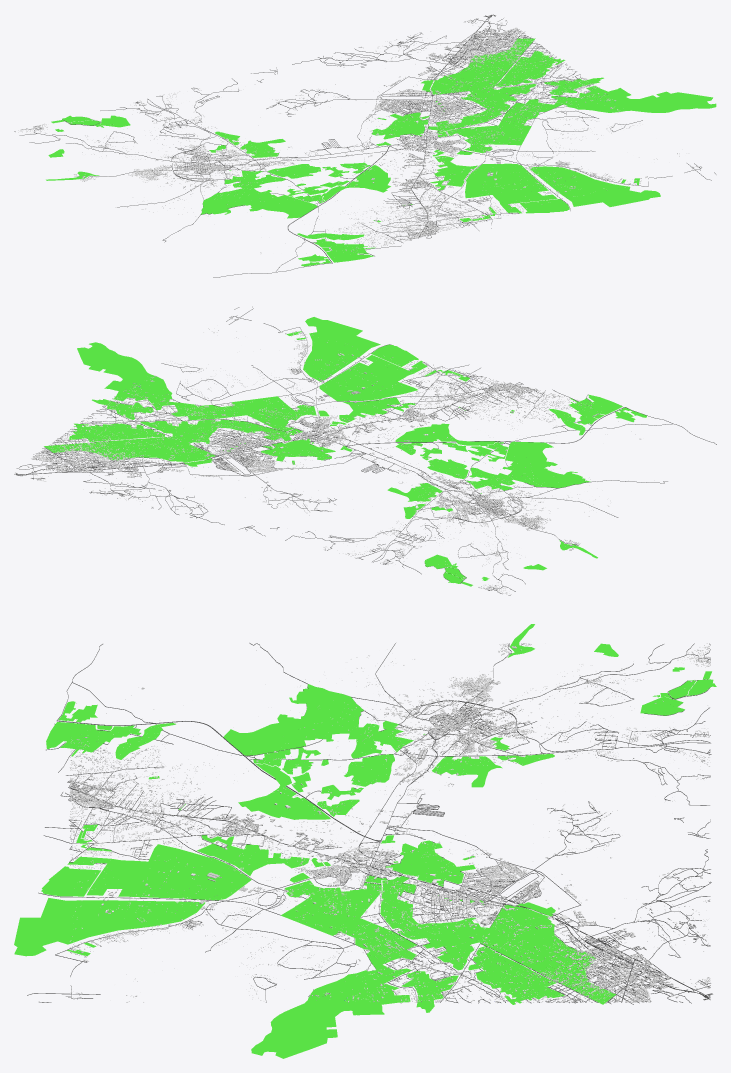
The model's file is damascus_tile_2.glb.
3 views of the same model, one above another, from view 1: azimuth 30°, elevation 25°; view 2: azimuth 150°, elevation 25°; view 3: azimuth 270°, elevation 25° (orthographic). The views are drawn at different scales.
Parts seen in each view (by area): view 1: damascus_tile_2_grass, damascus_tile_2_build, damascus_tile_2_road; view 2: damascus_tile_2_grass, damascus_tile_2_build, damascus_tile_2_road; view 3: damascus_tile_2_grass, damascus_tile_2_build, damascus_tile_2_road.
Boxes of the visible parts, <box> form: damascus_tile_2_grass: <box>46,38,716,266</box>; damascus_tile_2_build: <box>15,14,702,253</box>; damascus_tile_2_road: <box>14,14,716,277</box>; damascus_tile_2_grass: <box>44,317,646,586</box>; damascus_tile_2_build: <box>15,316,643,594</box>; damascus_tile_2_road: <box>14,306,716,595</box>; damascus_tile_2_grass: <box>14,624,716,1058</box>; damascus_tile_2_build: <box>69,643,710,1002</box>; damascus_tile_2_road: <box>27,643,712,1004</box>.
Bounding box in the file's own units: 823 × 1.02 × 562.
